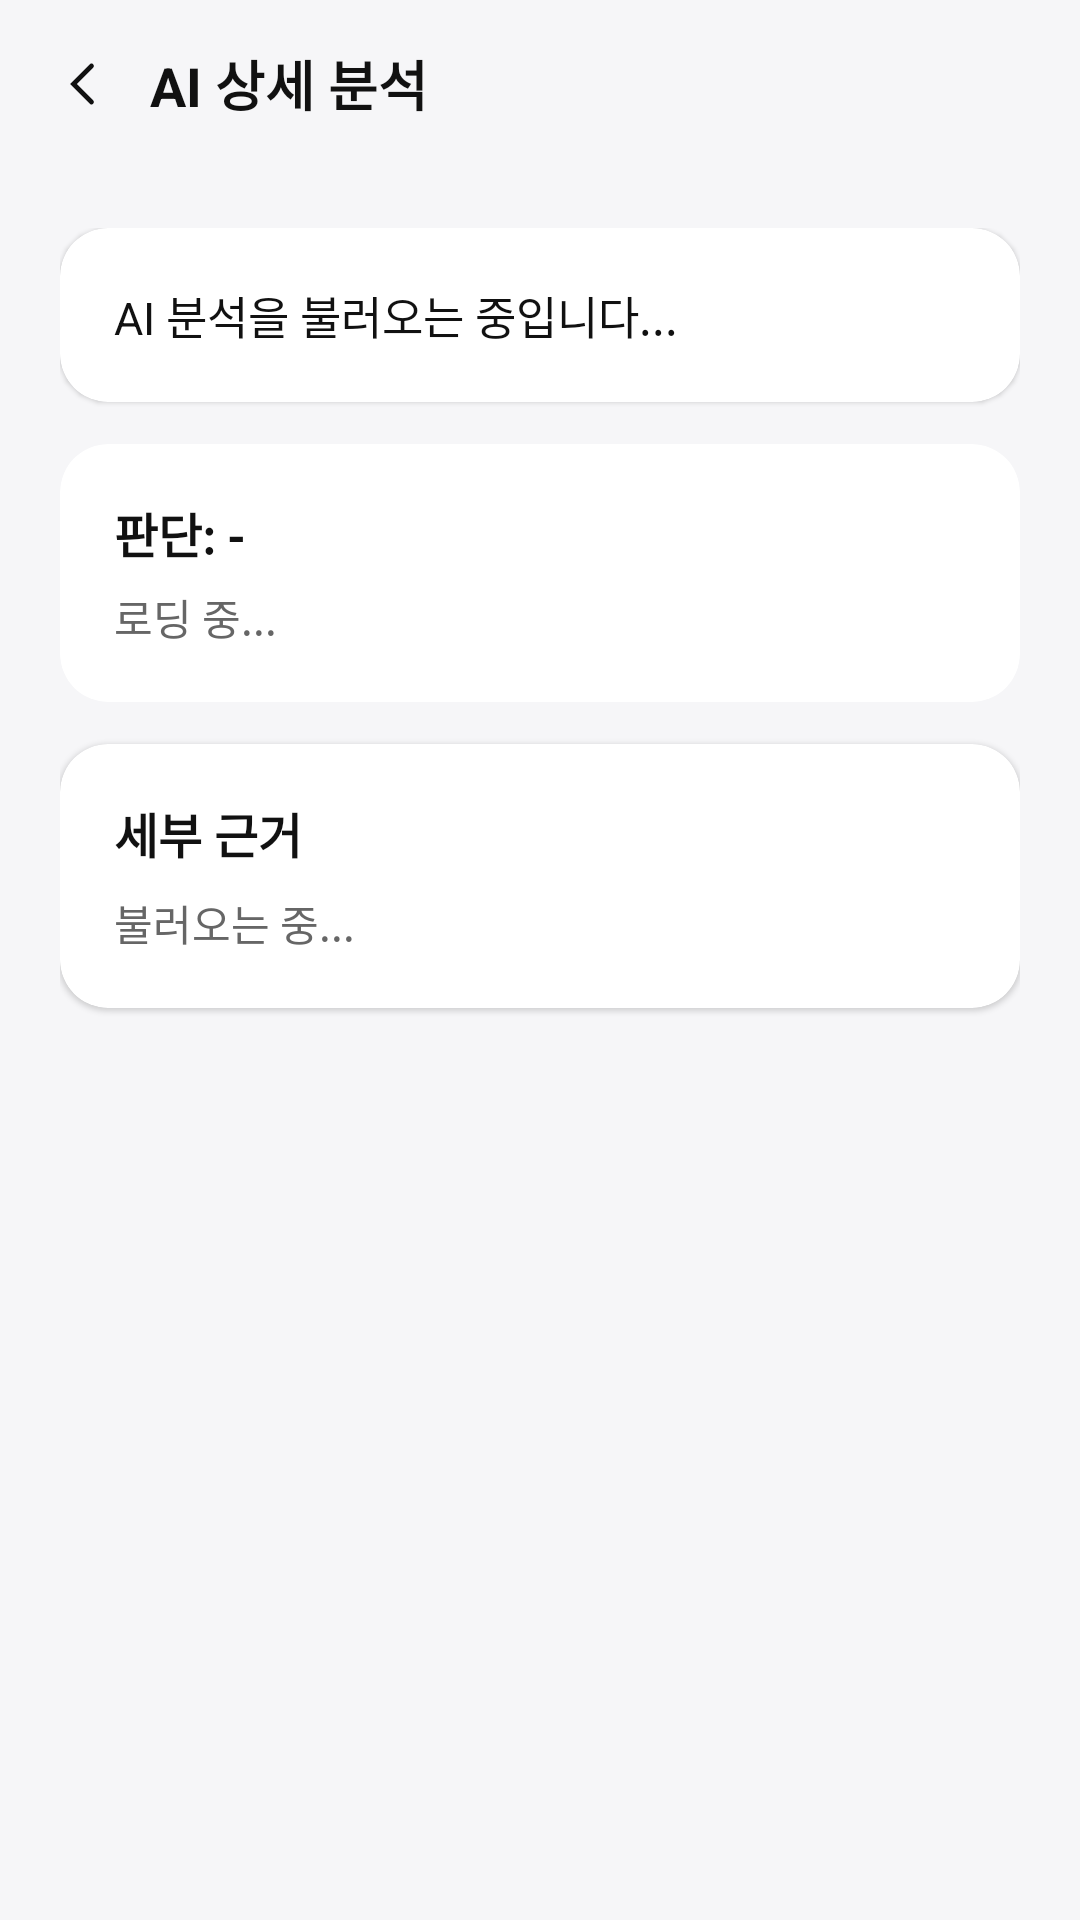

Icons on this 1080 × 1920 Android screen, each with its box as rect(x1, y1, x2, y2):
back: rect(70, 63, 94, 105)
